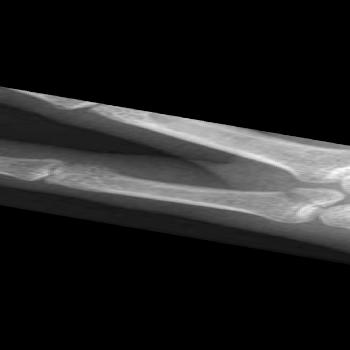Fracture: (263, 186, 350, 205)
